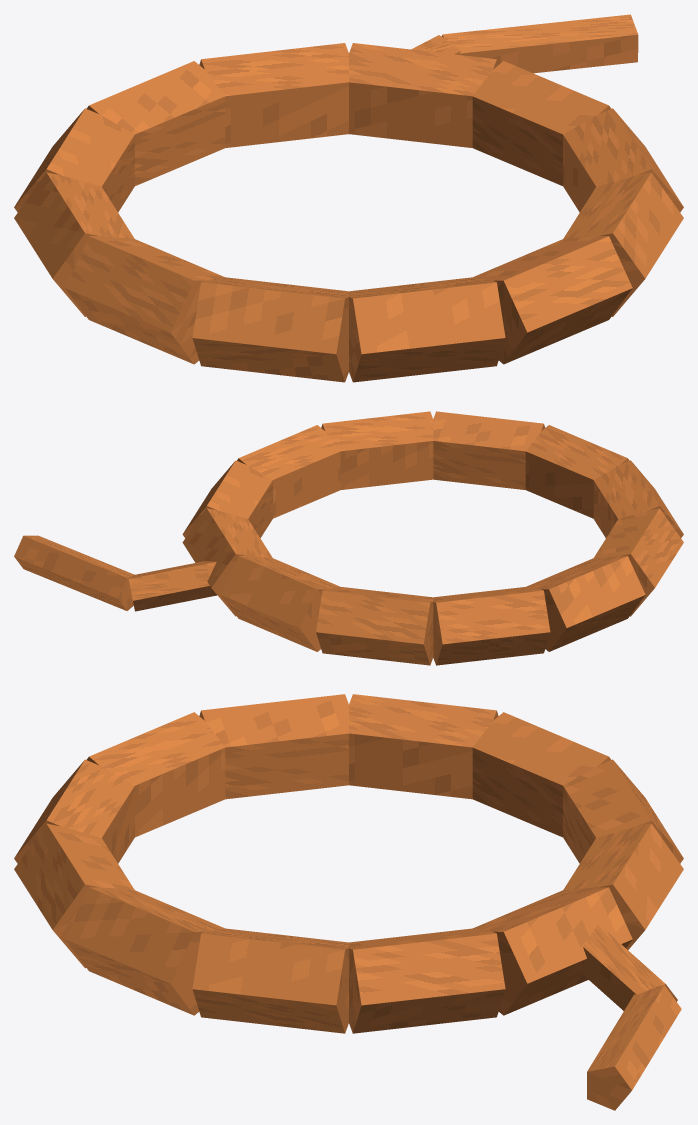
Rendered from judo_belt_orange.glb.
3 views of the same model, one above another, from view 1: azimuth 30°, elevation 25°; view 2: azimuth 150°, elevation 25°; view 3: azimuth 270°, elevation 25° (orthographic). The views are drawn at different scales.
Visible parts, largest first — view 1: block_rolled cloth sash3, block_rolled cloth sash4, block_rolled cloth sash9, block_rolled cloth sash10, block_rolled cloth sash2, block_rolled cloth sash5, block_rolled cloth sash8, block_rolled cloth sash11, block_free end 1, block_rolled cloth sash1, block_rolled cloth sash6, block_rolled cloth sash0 (+1 smaller); view 2: block_rolled cloth sash8, block_rolled cloth sash7, block_rolled cloth sash1, block_rolled cloth sash2, block_rolled cloth sash9, block_rolled cloth sash6, block_rolled cloth sash3, block_rolled cloth sash0, block_free end 1, block_rolled cloth sash5, block_rolled cloth sash10, block_rolled cloth sash4 (+2 smaller); view 3: block_rolled cloth sash0, block_rolled cloth sash11, block_rolled cloth sash5, block_rolled cloth sash6, block_rolled cloth sash1, block_rolled cloth sash10, block_rolled cloth sash4, block_rolled cloth sash7, block_rolled cloth sash2, block_rolled cloth sash9, block_free end 1, block_rolled cloth sash3 (+2 smaller).
Boxes of the visible parts, x1=… form: block_rolled cloth sash3: x1=349, y1=277, x2=505, y2=382; block_rolled cloth sash4: x1=192, y1=277, x2=348, y2=382; block_rolled cloth sash9: x1=199, y1=43, x2=348, y2=147; block_rolled cloth sash10: x1=349, y1=43, x2=498, y2=147; block_rolled cloth sash2: x1=473, y1=236, x2=632, y2=364; block_rolled cloth sash5: x1=65, y1=236, x2=224, y2=364; block_rolled cloth sash8: x1=86, y1=61, x2=225, y2=185; block_rolled cloth sash11: x1=472, y1=61, x2=611, y2=185; block_free end 1: x1=442, y1=14, x2=638, y2=73; block_rolled cloth sash1: x1=563, y1=172, x2=683, y2=316; block_rolled cloth sash6: x1=14, y1=172, x2=134, y2=316; block_rolled cloth sash0: x1=563, y1=108, x2=683, y2=212; block_rolled cloth sash8: x1=316, y1=587, x2=433, y2=665; block_rolled cloth sash7: x1=433, y1=587, x2=550, y2=665; block_rolled cloth sash1: x1=321, y1=411, x2=433, y2=489; block_rolled cloth sash2: x1=433, y1=411, x2=544, y2=489; block_rolled cloth sash9: x1=221, y1=556, x2=340, y2=651; block_rolled cloth sash6: x1=526, y1=556, x2=645, y2=651; block_rolled cloth sash3: x1=525, y1=425, x2=629, y2=518; block_rolled cloth sash0: x1=237, y1=425, x2=340, y2=518; block_free end 1: x1=14, y1=535, x2=134, y2=610; block_rolled cloth sash5: x1=594, y1=508, x2=683, y2=616; block_rolled cloth sash10: x1=182, y1=508, x2=272, y2=616; block_rolled cloth sash4: x1=593, y1=460, x2=683, y2=537; block_rolled cloth sash0: x1=192, y1=928, x2=348, y2=1033; block_rolled cloth sash11: x1=349, y1=928, x2=505, y2=1033; block_rolled cloth sash5: x1=199, y1=694, x2=348, y2=799; block_rolled cloth sash6: x1=349, y1=694, x2=498, y2=799; block_rolled cloth sash1: x1=65, y1=887, x2=224, y2=1015; block_rolled cloth sash10: x1=473, y1=887, x2=632, y2=1015; block_rolled cloth sash4: x1=86, y1=712, x2=225, y2=837; block_rolled cloth sash7: x1=472, y1=712, x2=611, y2=837; block_rolled cloth sash2: x1=14, y1=823, x2=134, y2=968; block_rolled cloth sash9: x1=563, y1=823, x2=683, y2=949; block_free end 1: x1=587, y1=985, x2=681, y2=1110; block_rolled cloth sash3: x1=14, y1=759, x2=134, y2=863.
Bounding box in the file's own units: 0.1512 × 0.0177 × 0.1238.
Materials: 1 (1 with a texture image).
